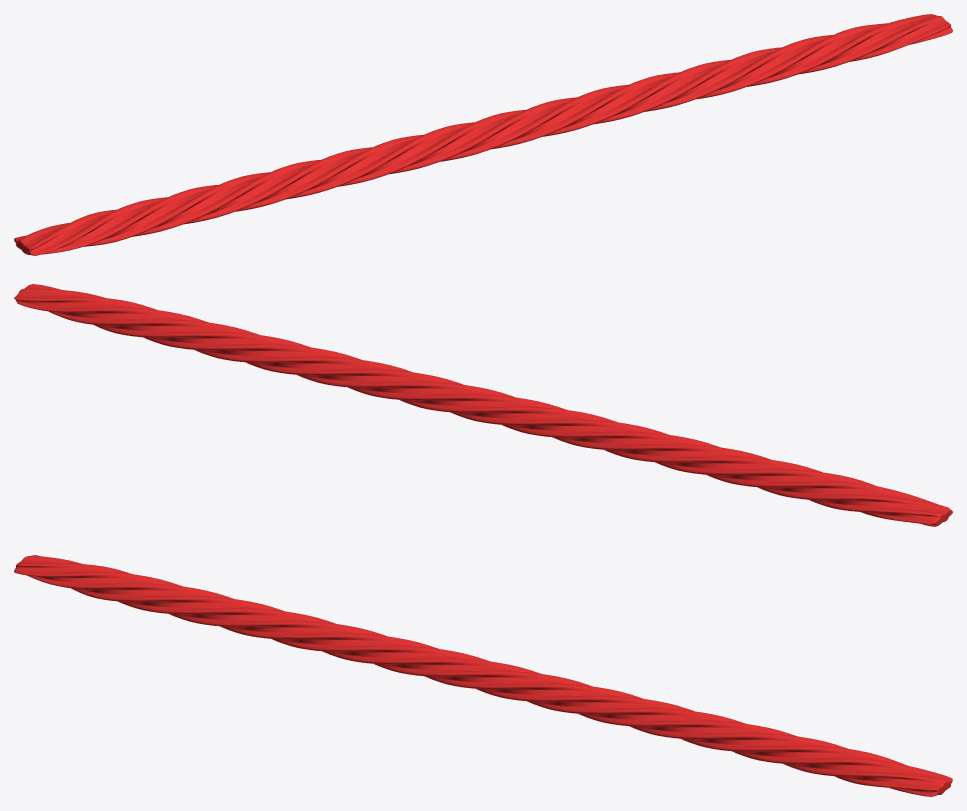
File: twizzler_01.fbx
3 renders of one model, top to bottom at view 1: azimuth 30°, elevation 25°; view 2: azimuth 150°, elevation 25°; view 3: azimuth 330°, elevation 25°, orthographic.
Visible parts, largest first — view 1: twizzler2; view 2: twizzler2; view 3: twizzler2.
Part boxes in pixels (bbox=[...]): twizzler2: bbox=[14, 14, 952, 255]; twizzler2: bbox=[14, 284, 952, 526]; twizzler2: bbox=[14, 555, 952, 796].
Bounding box in the file's own units: 40.5 × 1.06 × 1.91.
